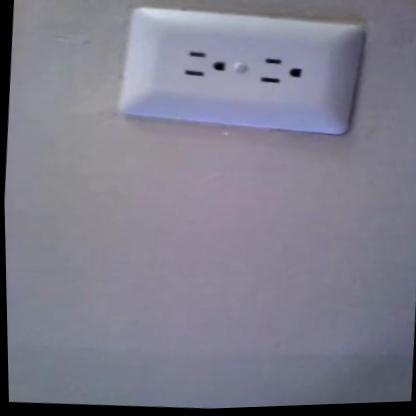OUTLET: (120, 0, 368, 143)
